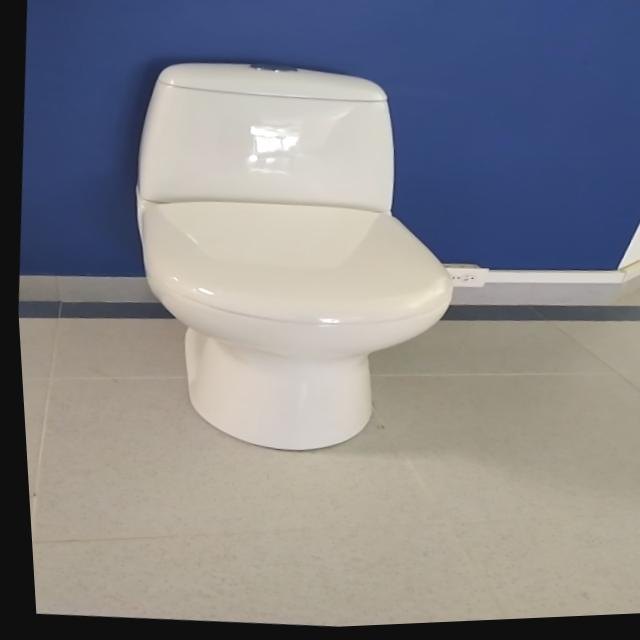toilet: (102, 47, 477, 473)
